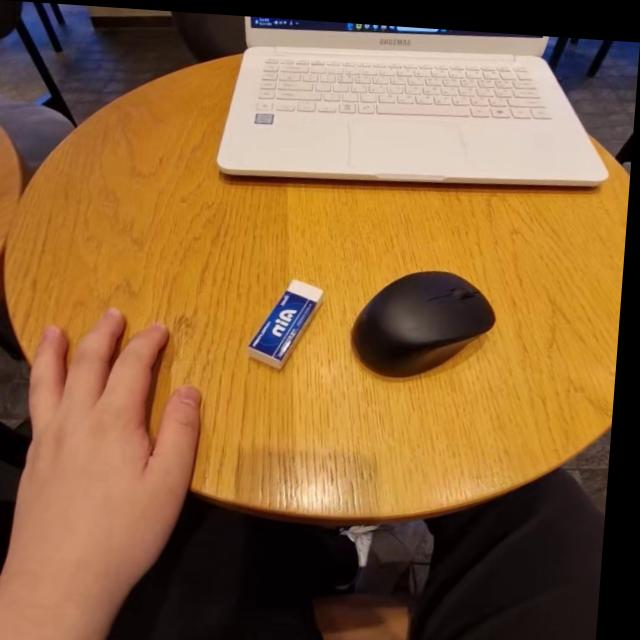eraser: (246, 269, 327, 373)
hand: (17, 288, 203, 626)
mouse: (348, 251, 507, 376)
